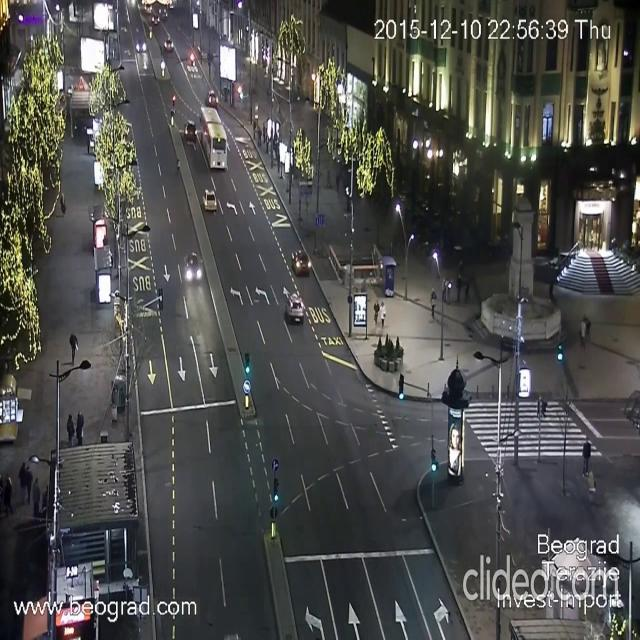bus: (198, 104, 228, 171)
car: (282, 286, 304, 324), (184, 252, 202, 282), (291, 249, 310, 276), (203, 188, 217, 212), (184, 119, 196, 141), (207, 86, 219, 102), (152, 11, 162, 24), (163, 37, 171, 51), (137, 36, 144, 50)
